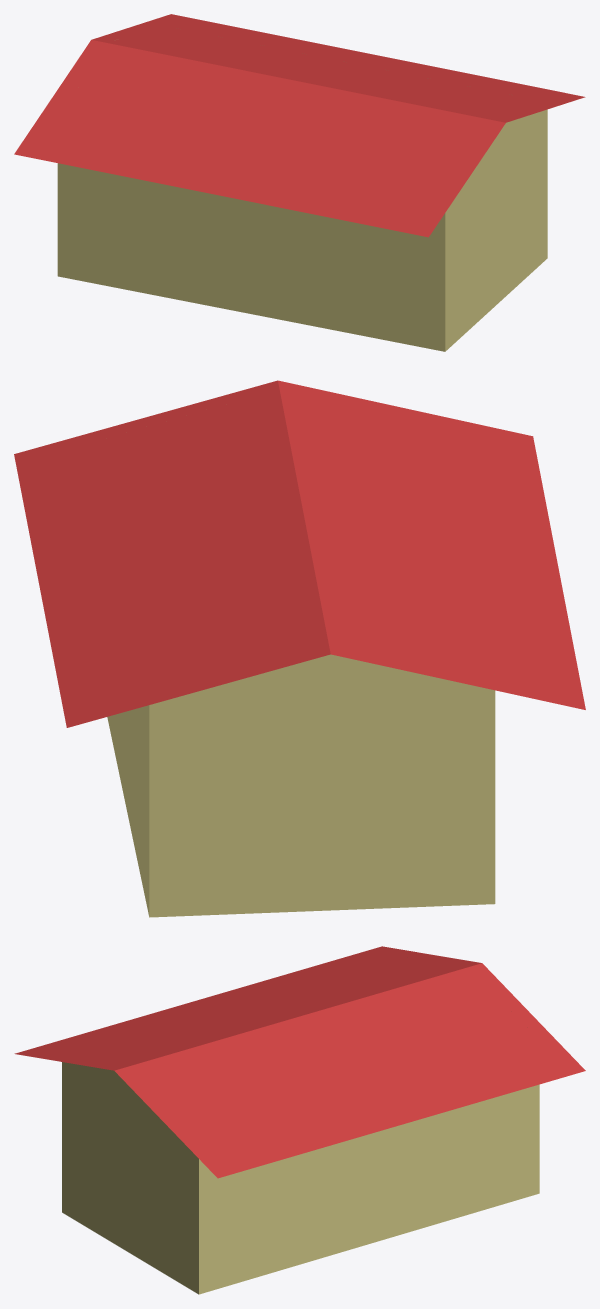
The picture shows the model from 3 angles, top to bottom: view 1: azimuth 30°, elevation 25°; view 2: azimuth 150°, elevation 25°; view 3: azimuth 270°, elevation 25°; orthographic projection. The views are drawn at different scales.
Bounding box in the file's own units: 27.87 × 29.02 × 10.27.
